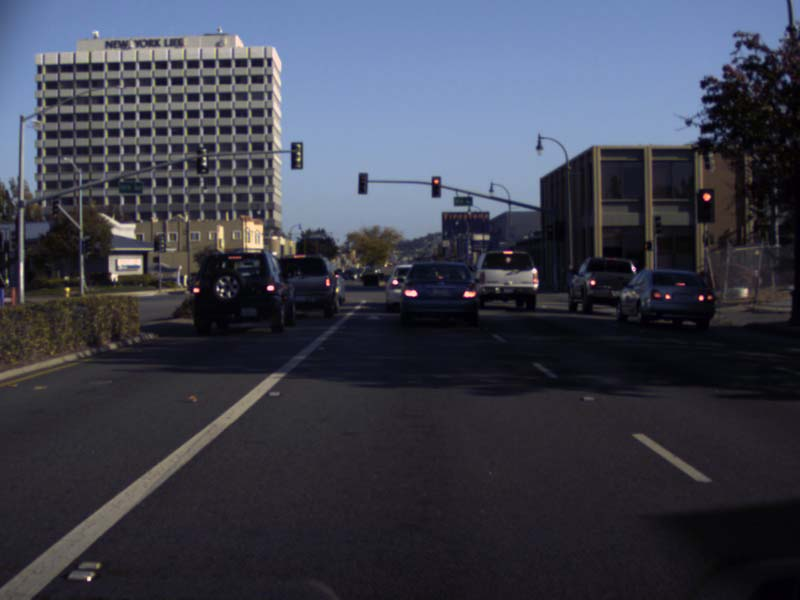Red: (698, 189, 713, 221), (431, 176, 441, 197), (358, 173, 367, 194)
